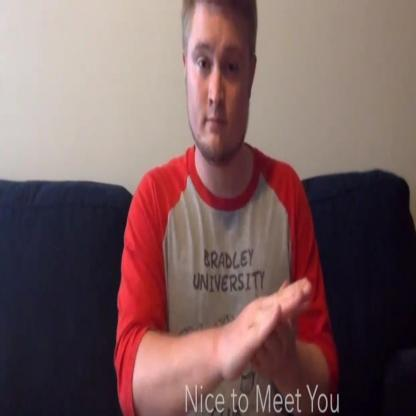NiceToMeetYou: (218, 266, 306, 382)
